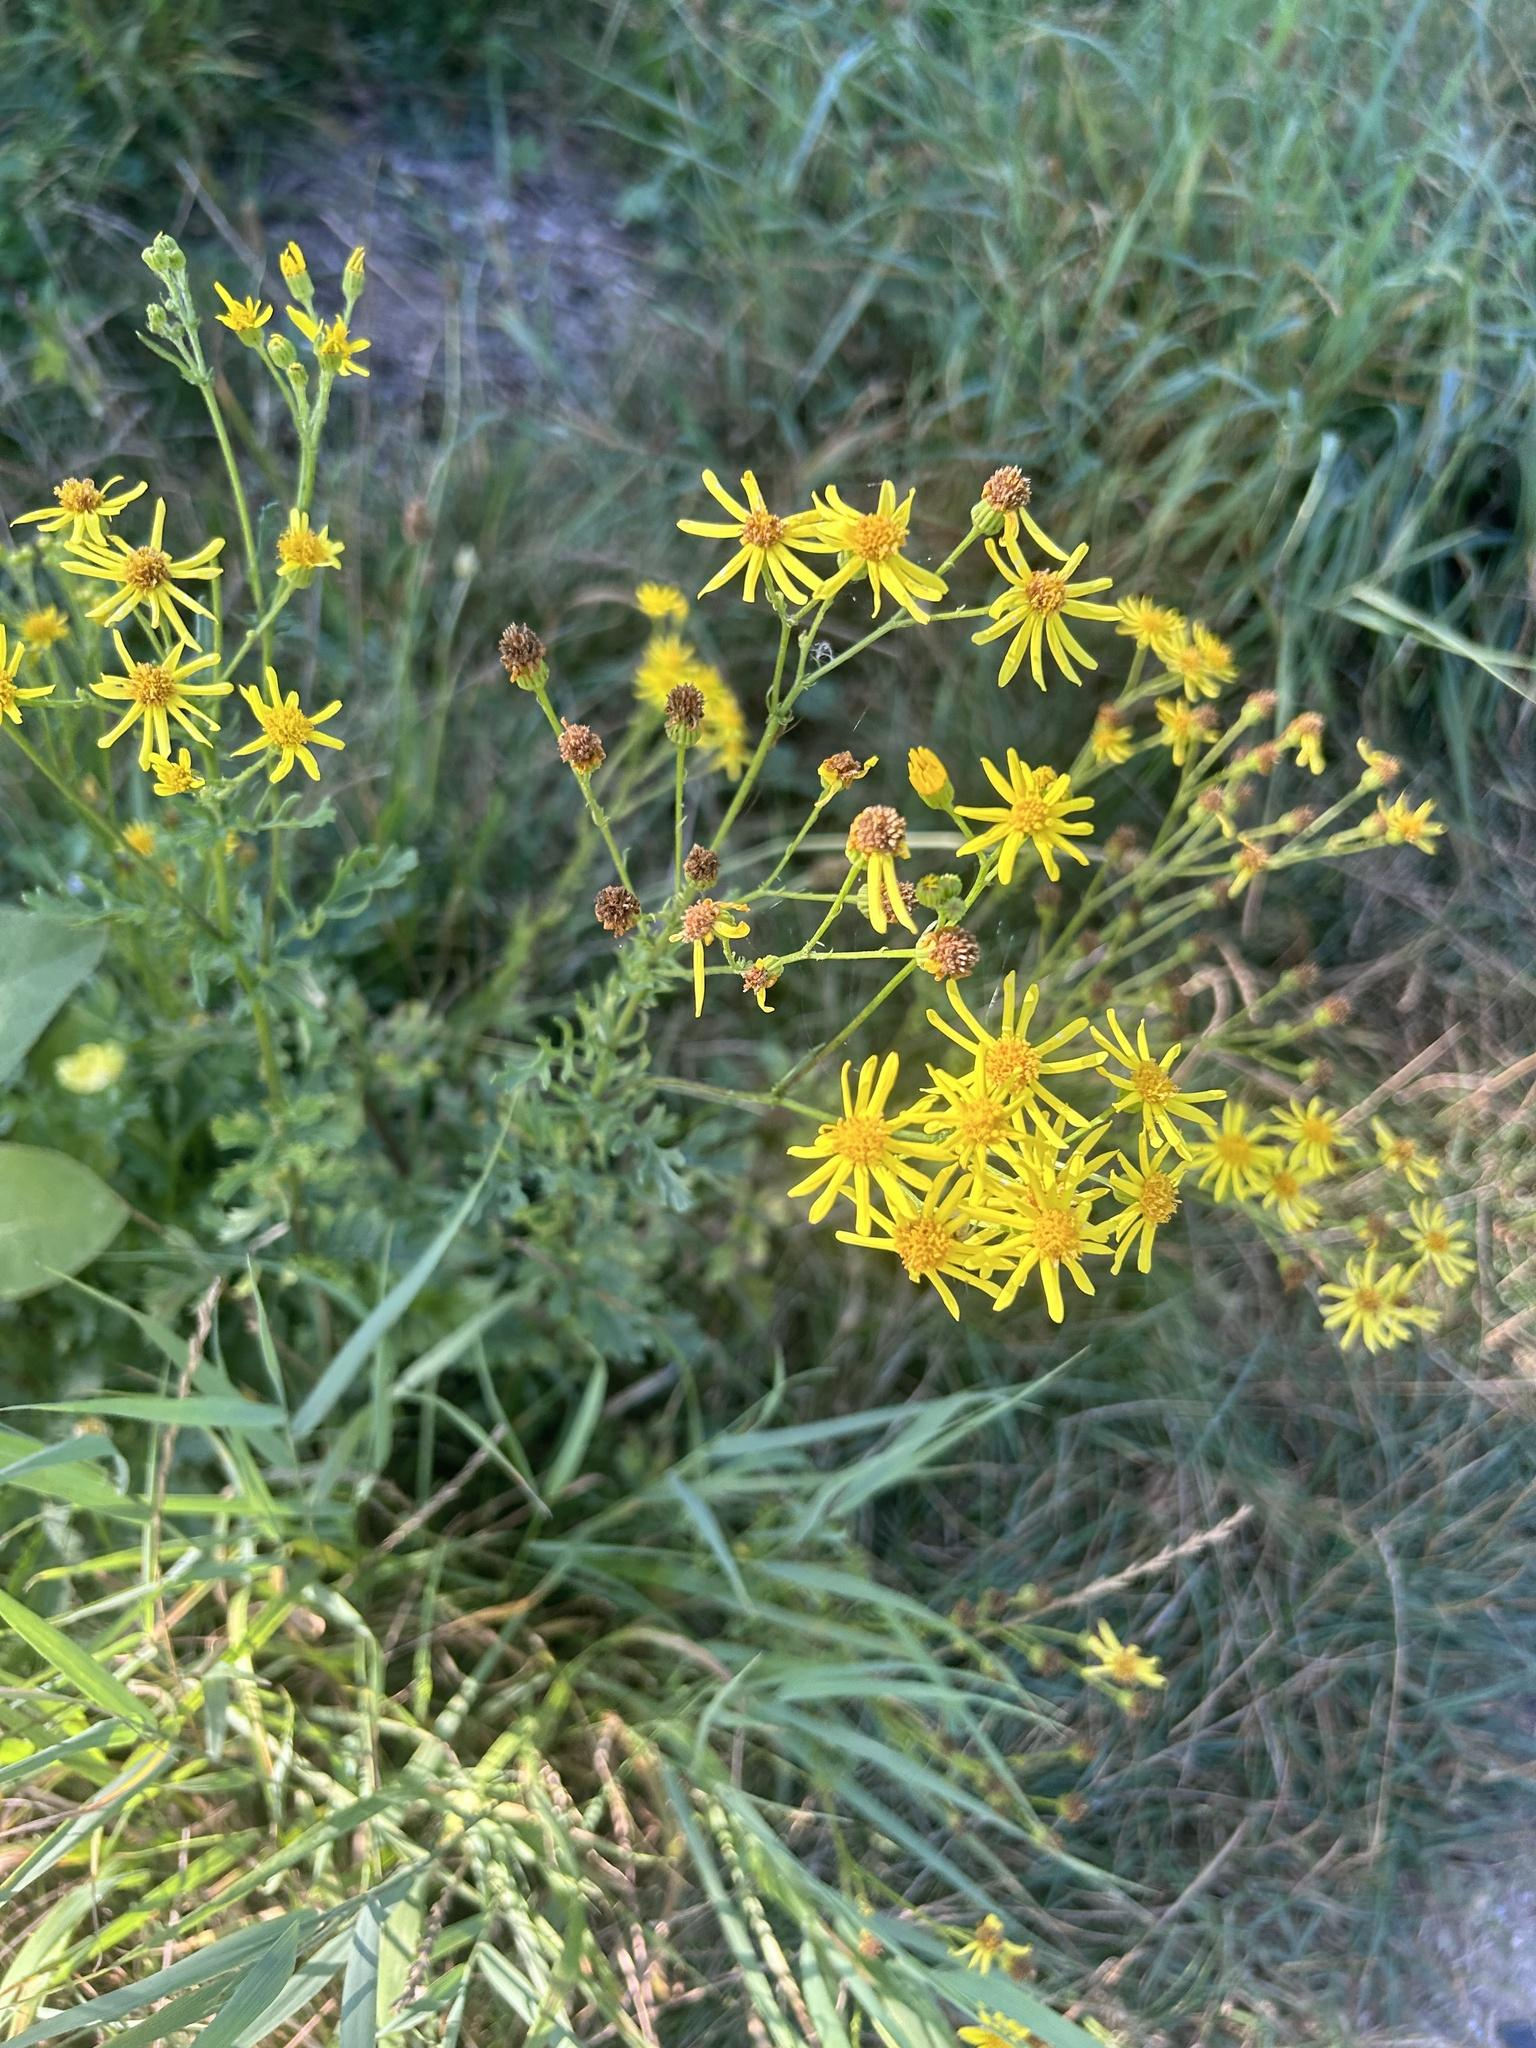Jacobaea vulgaris: (426, 381, 1497, 1617), (27, 244, 413, 1343)
